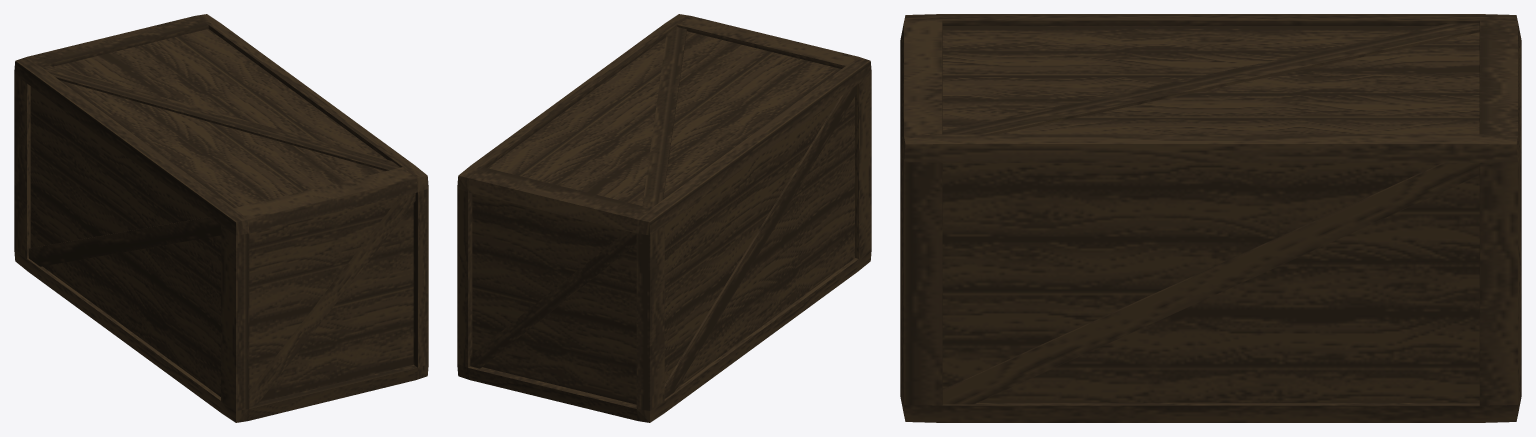
Rendered from Kiste V2.fbx.
3 renders of one model, left to right at view 1: azimuth 30°, elevation 25°; view 2: azimuth 150°, elevation 25°; view 3: azimuth 270°, elevation 25°, orthographic. The views are drawn at different scales.
Parts seen in each view (by area): view 1: Kiste V2; view 2: Kiste V2; view 3: Kiste V2.
Boxes of the visible parts, <box> form: Kiste V2: <box>14,14,428,422</box>; Kiste V2: <box>457,14,871,422</box>; Kiste V2: <box>900,14,1521,422</box>.
Size of the model in its own units: 100 by 200 by 100.
Materials: 1 (1 with a texture image).
